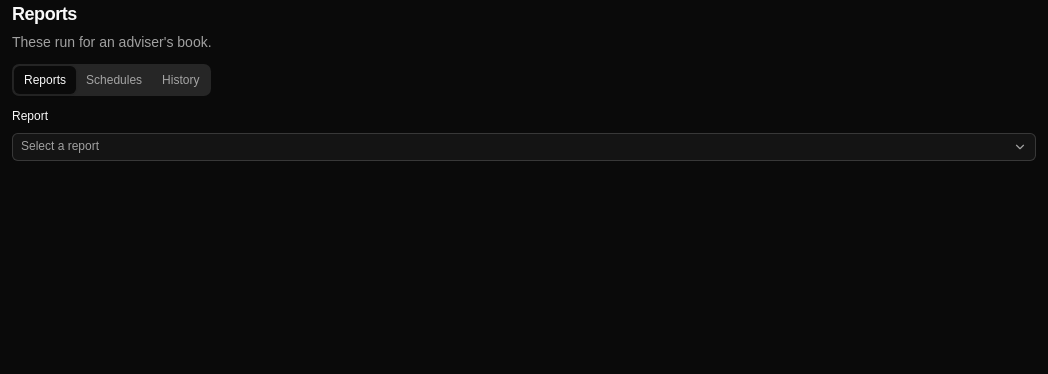
Test: ReportsPage › requires a tenant admin to pick an adviser before queueing balances
Click the dropdown labelled "report". click: (60, 146)
box: [12,132,1036,160]
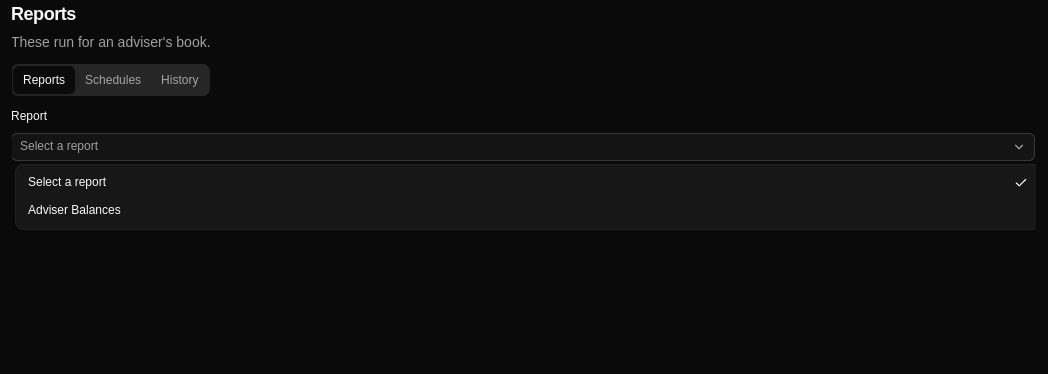
Click the option "Adviser Balances". click: (74, 210)
box: [28,203,121,217]
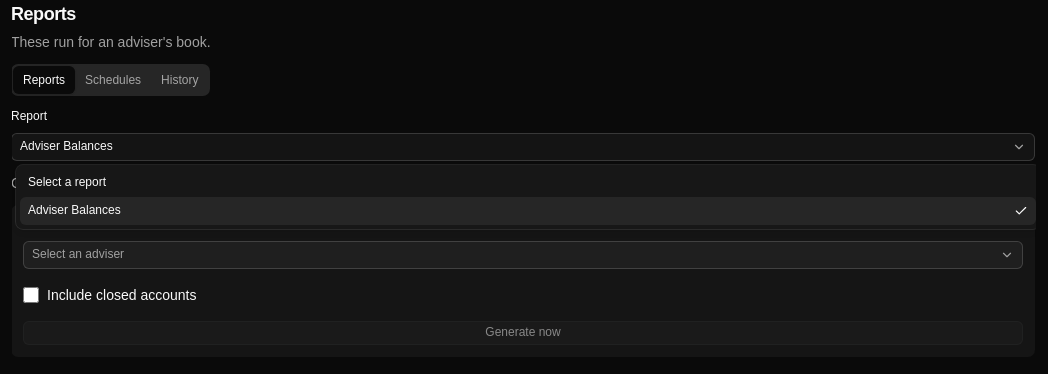
Expected: the dropdown labelled "adviser" is shown
Expected: the button "Generate now" is disabled, [23,321,1023,345]
Click the dropdown labelled "adviser". click: (78, 254)
box: [23,241,1023,269]
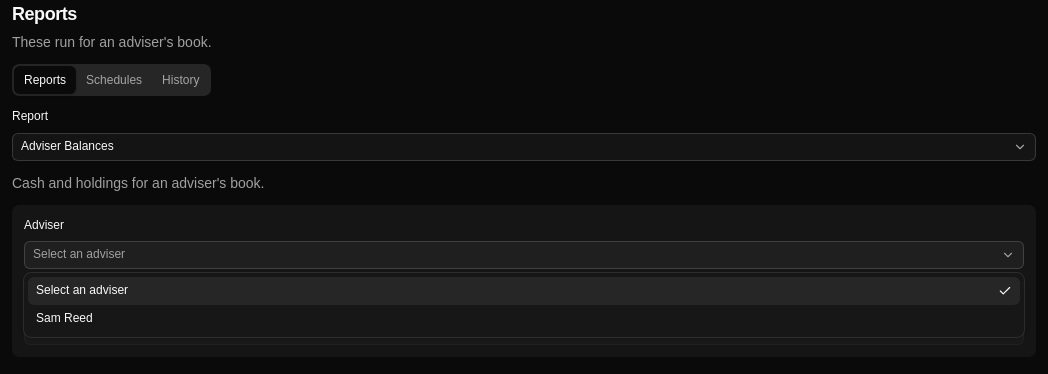
Click the option "Sam Reed". click: (64, 318)
box: [36,311,93,325]
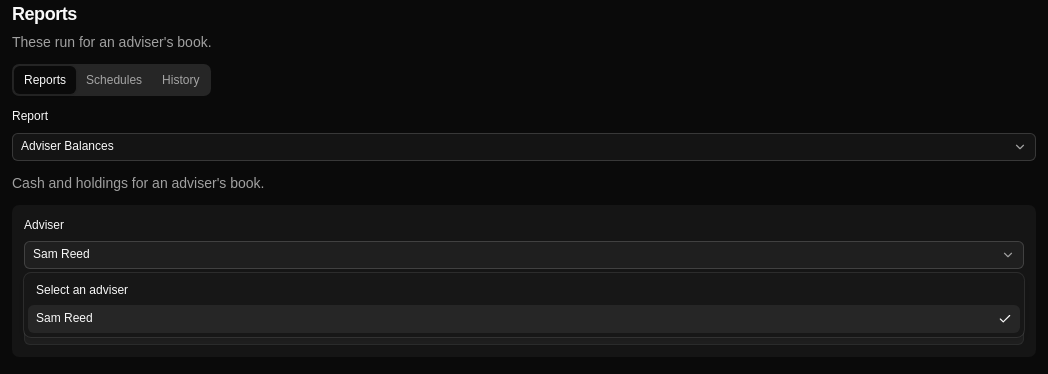
Click the button "Generate now". click: (524, 333)
box: [24,321,1024,345]
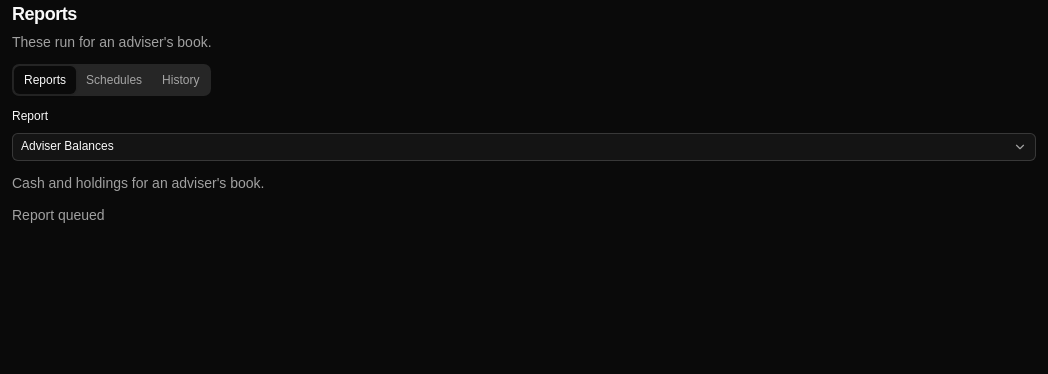
Expected: the text "Report queued" is shown, [12,206,105,222]
